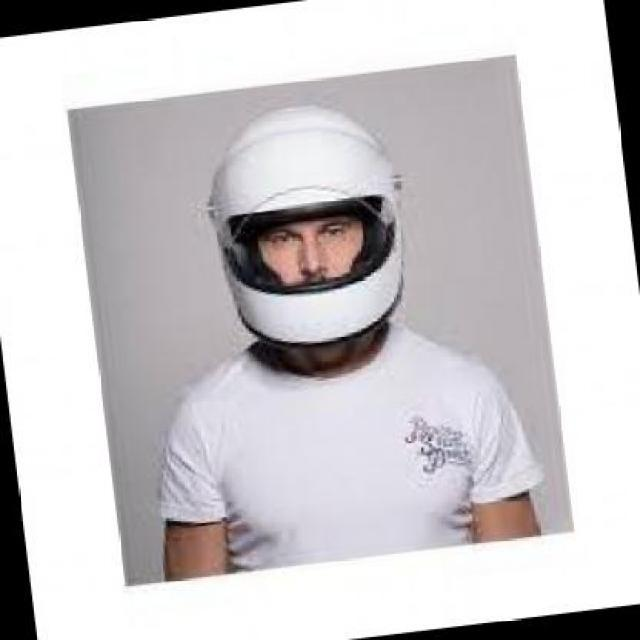Helmet: (193, 93, 428, 370)
